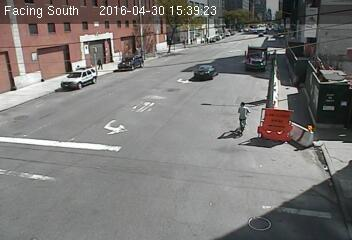neg: (225, 97, 257, 139)
pos: (94, 56, 104, 70)
